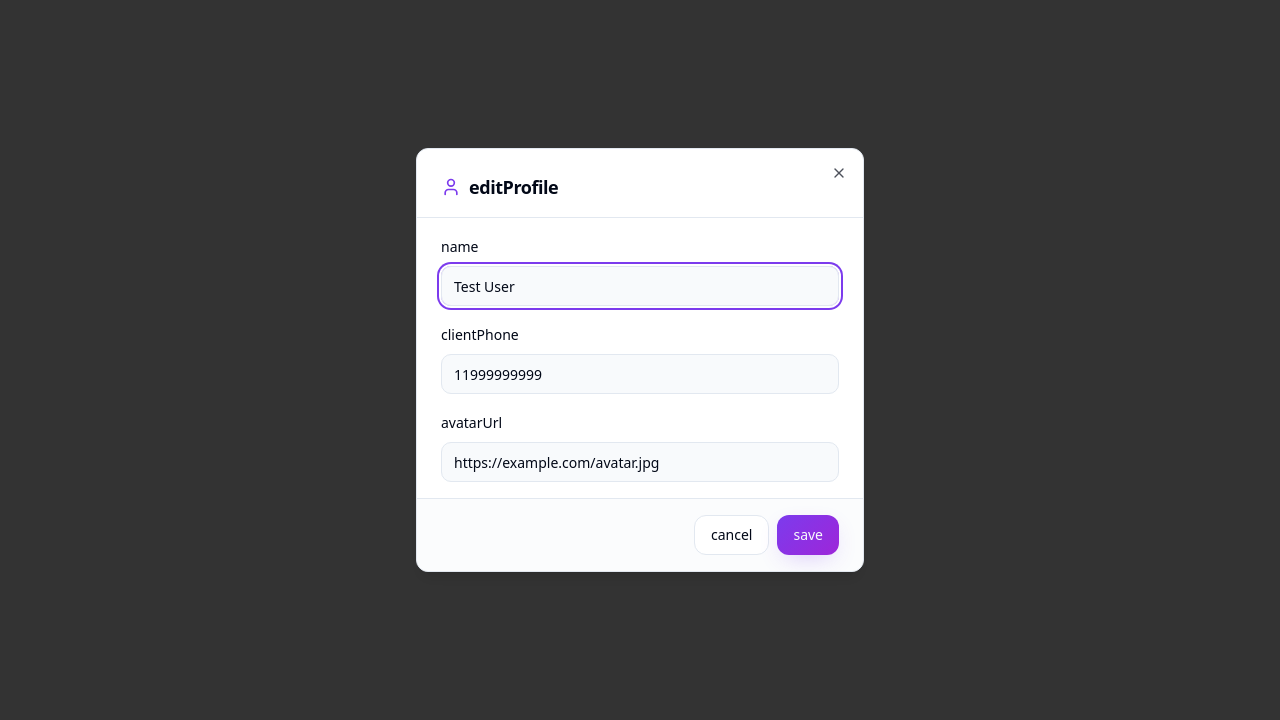
Scenario: UserProfileFormDialog › should show validation error for short name
Note: Change to short name using userEvent
Replace the text in the field labelled "name" with "A" at (640, 286), box x1=441 y1=266 x2=839 y2=306
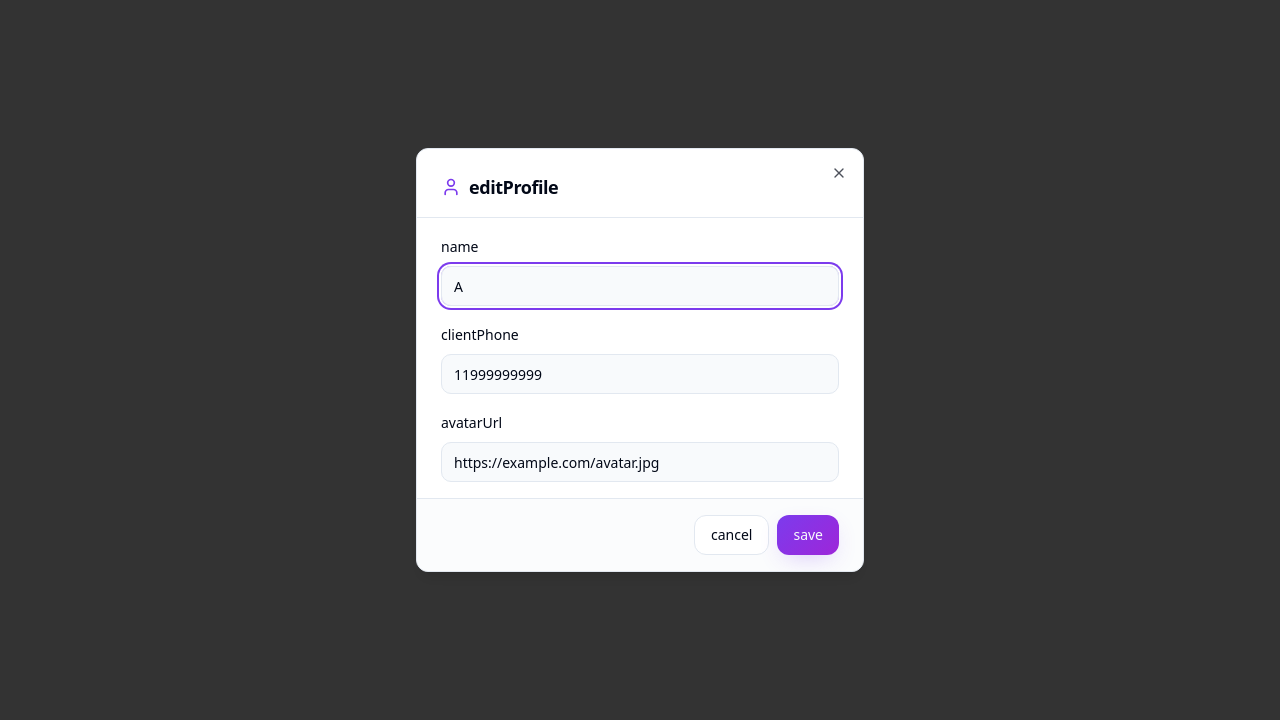
Note: Click save
Click the button "save" at (808, 535), box x1=777 y1=515 x2=839 y2=555
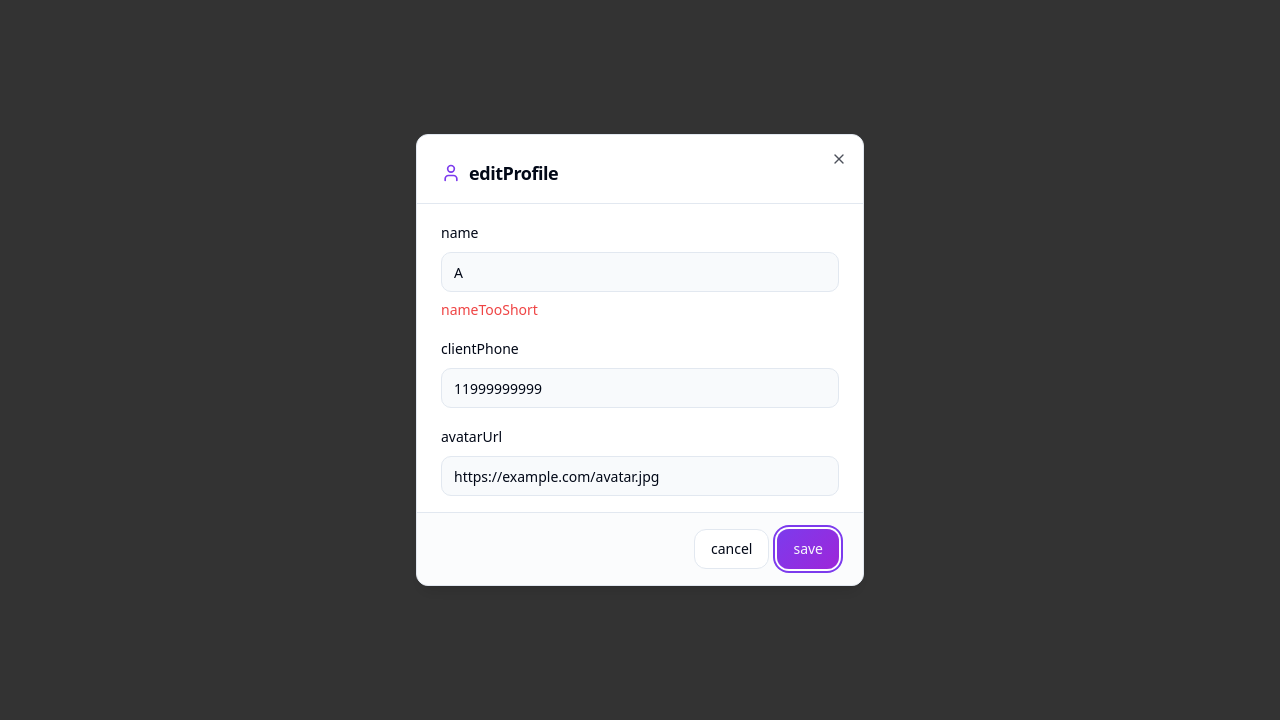
Now the text "nameTooShort" is shown, box x1=441 y1=300 x2=538 y2=319
